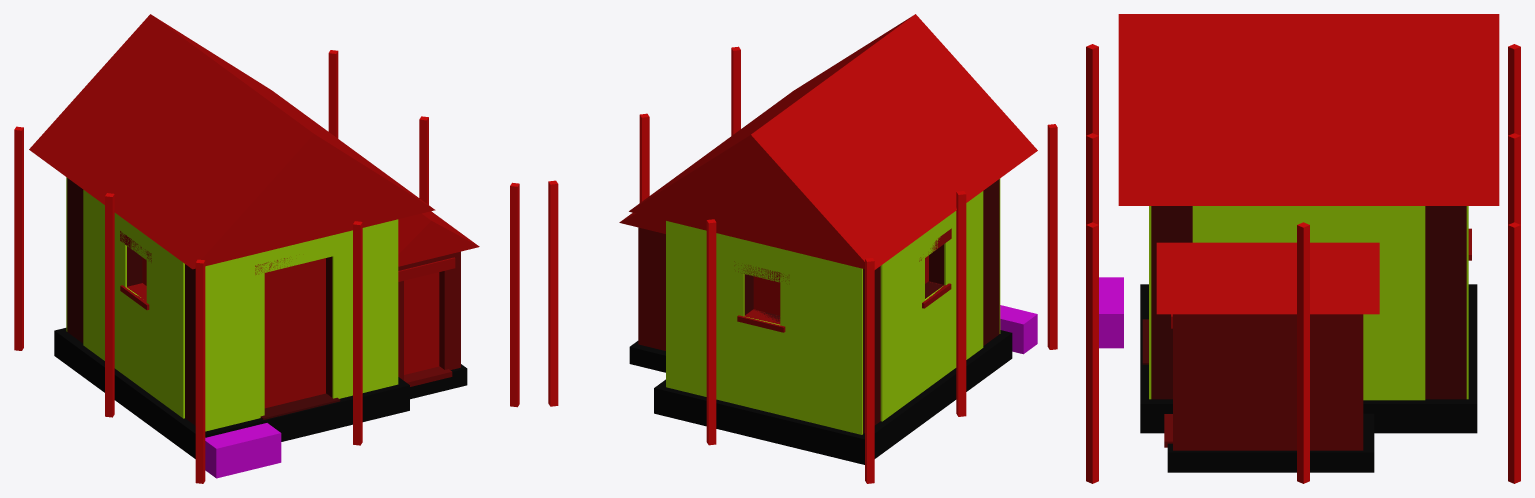
Rendered from common_housing_2_lod1.glb.
The picture shows the model from 3 angles, left to right: view 1: azimuth 30°, elevation 25°; view 2: azimuth 150°, elevation 25°; view 3: azimuth 270°, elevation 25°; orthographic projection. The views are drawn at different scales.
Parts seen in each view (by area): view 1: common_housing_2_lod1; view 2: common_housing_2_lod1; view 3: common_housing_2_lod1.
Part boxes in pixels (<box>): common_housing_2_lod1: <box>14,14,519,483</box>; common_housing_2_lod1: <box>548,14,1057,483</box>; common_housing_2_lod1: <box>1086,14,1520,483</box>.
Size of the model in its own units: 2 by 1.83 by 2.
